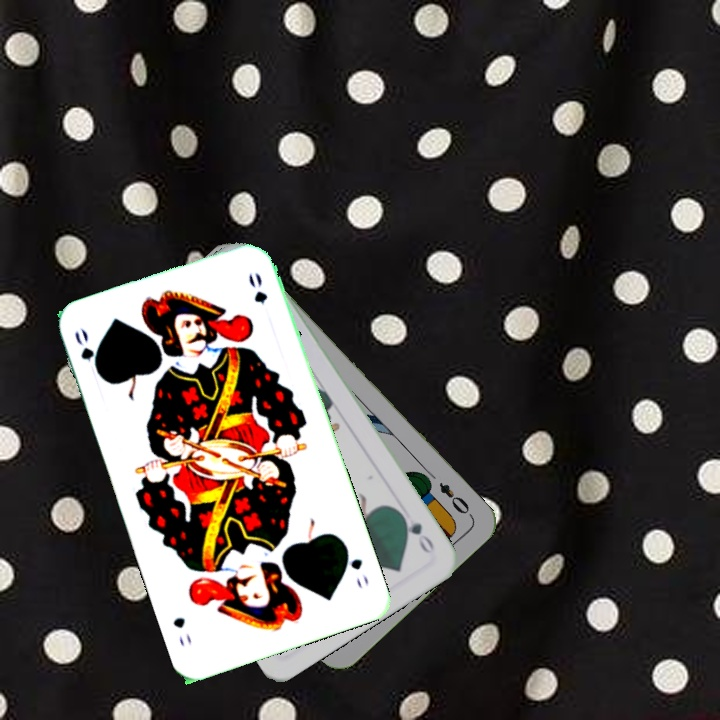EO: (434, 478, 475, 520)
GO: (395, 508, 437, 557), (70, 324, 105, 380), (340, 540, 372, 591)
